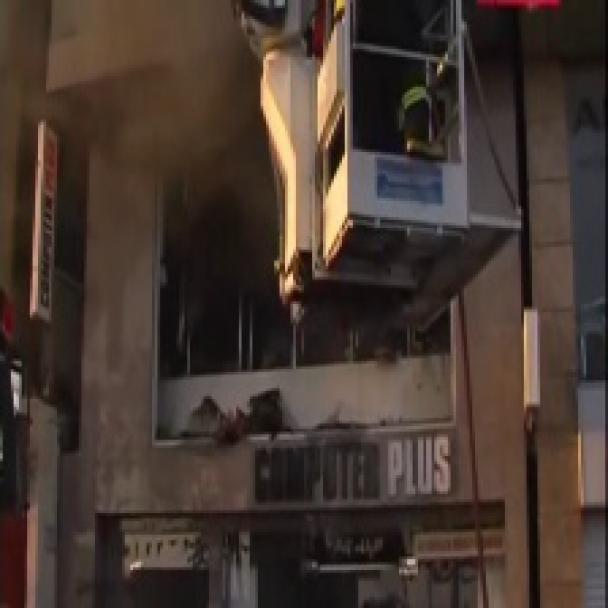smoke: (48, 0, 560, 397)
